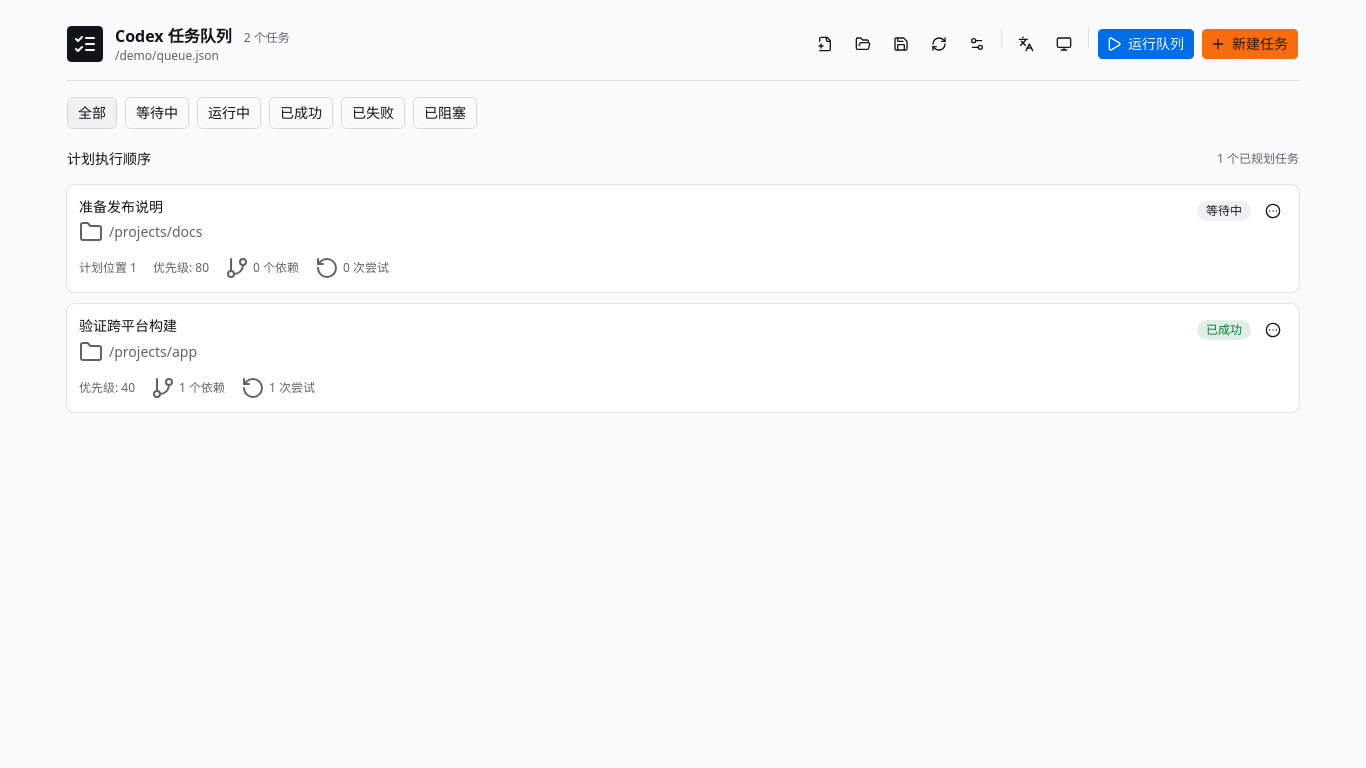
Test: QueueApp › shows the empty output state before a task has run
Expected: the heading "准备发布说明" is shown, [79,197,163,216]
Step 1. Press the mouse on the button named "准备发布说明的更多操作" → (1273, 211), box [1259,197,1287,225]
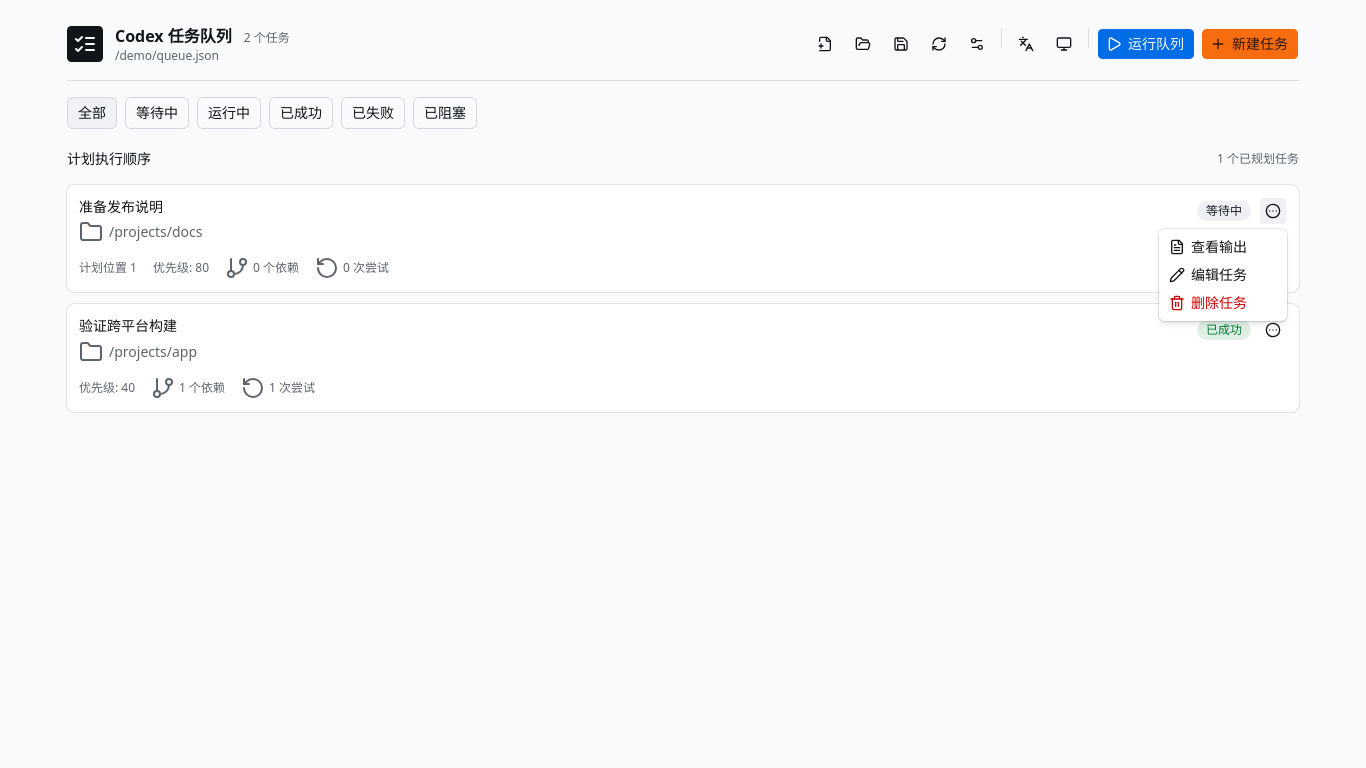
Step 2. Click the menu item "查看输出" → (1208, 246), box [1169,237,1247,256]
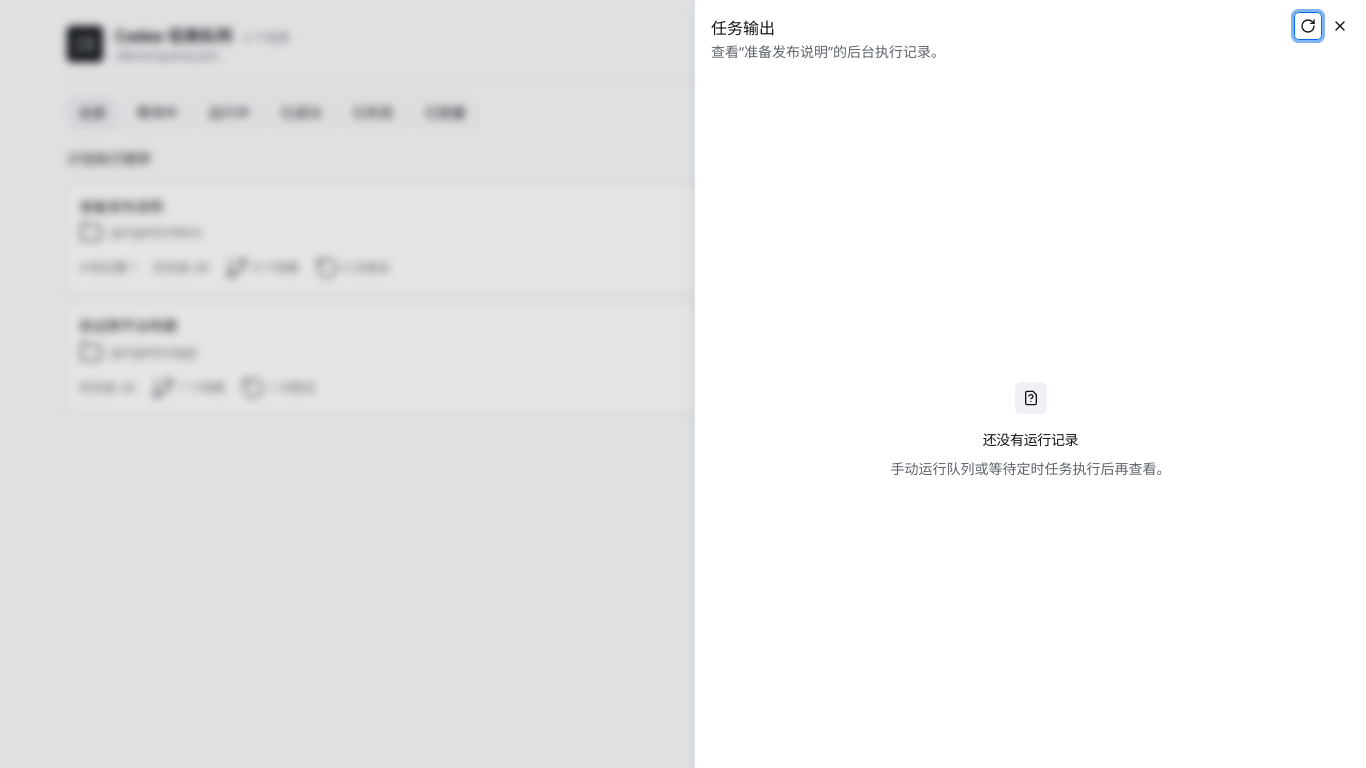
Now the text "还没有运行记录" is shown, box [983,430,1078,450]
